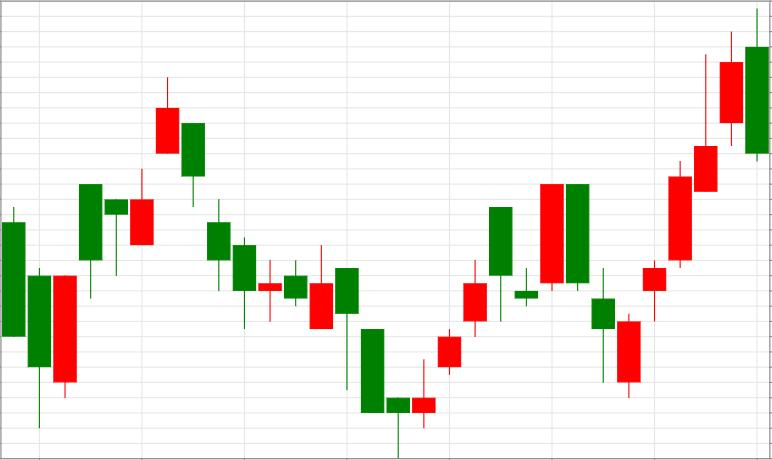bearish_engulfing_fall: (618, 8, 769, 398)
